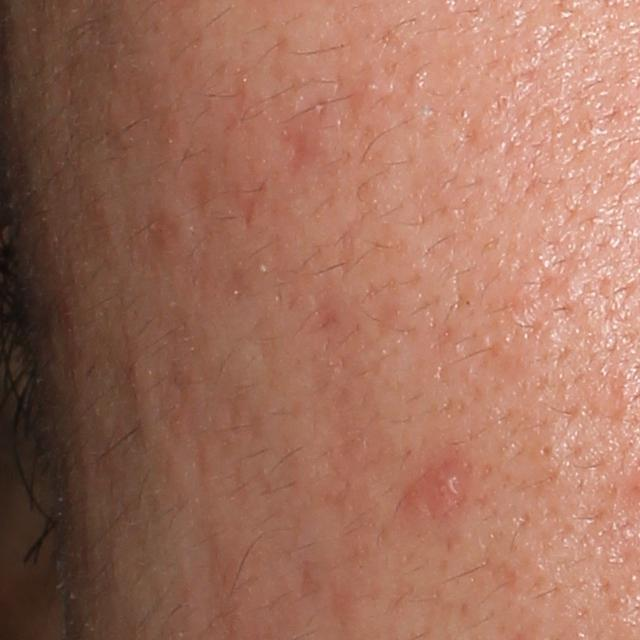comedo: (534, 439, 558, 462)
papule: (403, 456, 471, 514)
